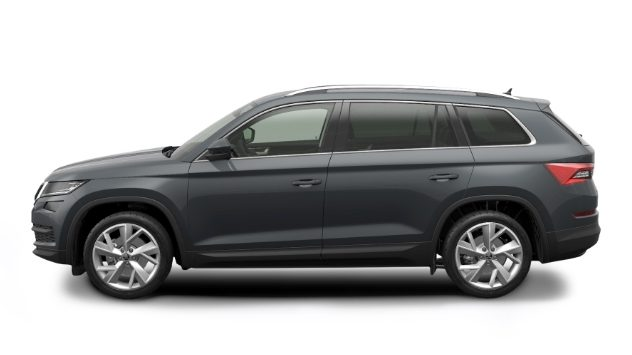car: (21, 64, 611, 322)
